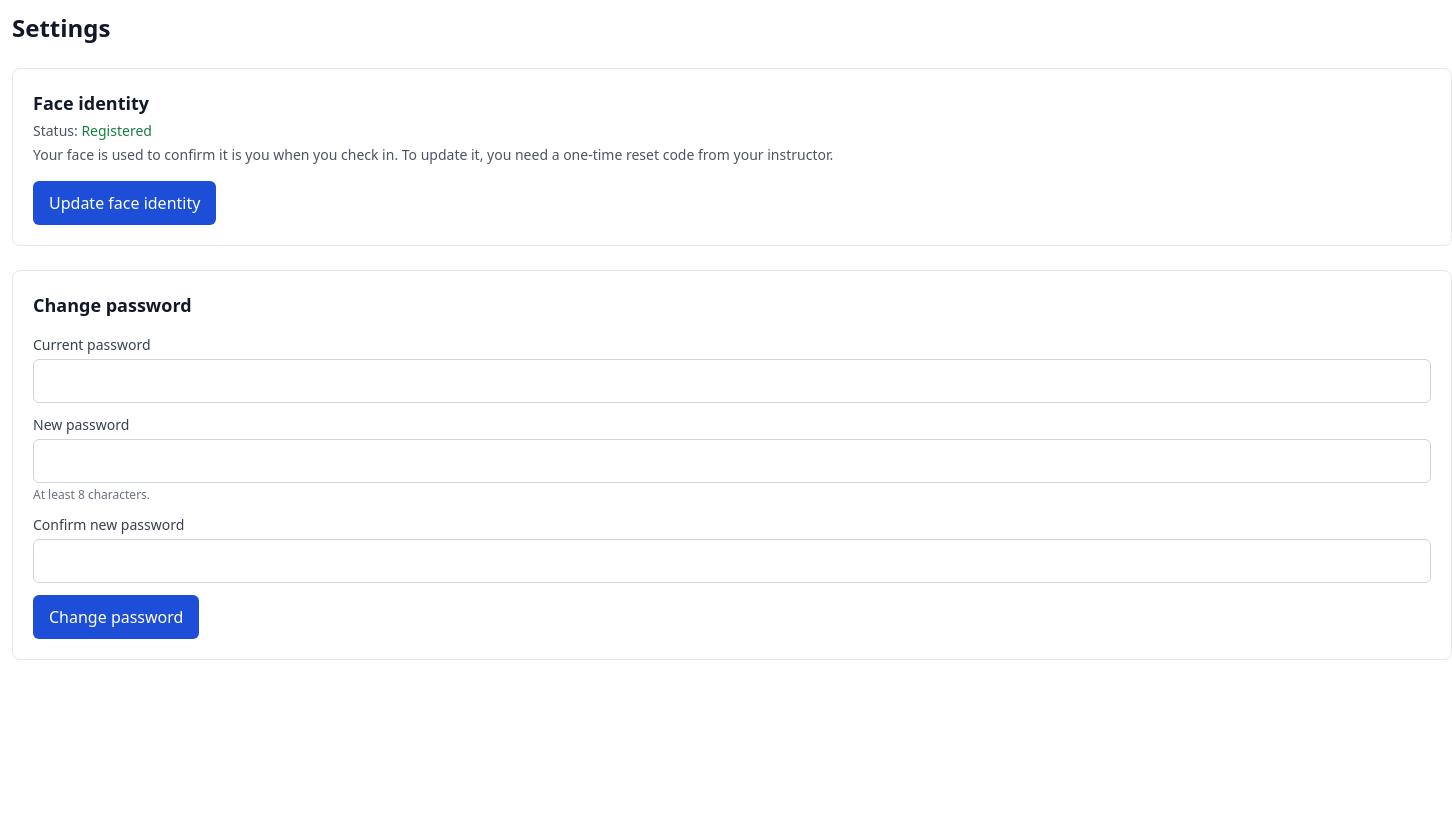
Test: Settings face identity update with an instructor reset code › shows Checking... while the code is checked, then opens the camera step
This screenshot has width=1452, height=822.
Click the button "Update face identity": (125, 203) [33,181,216,225]
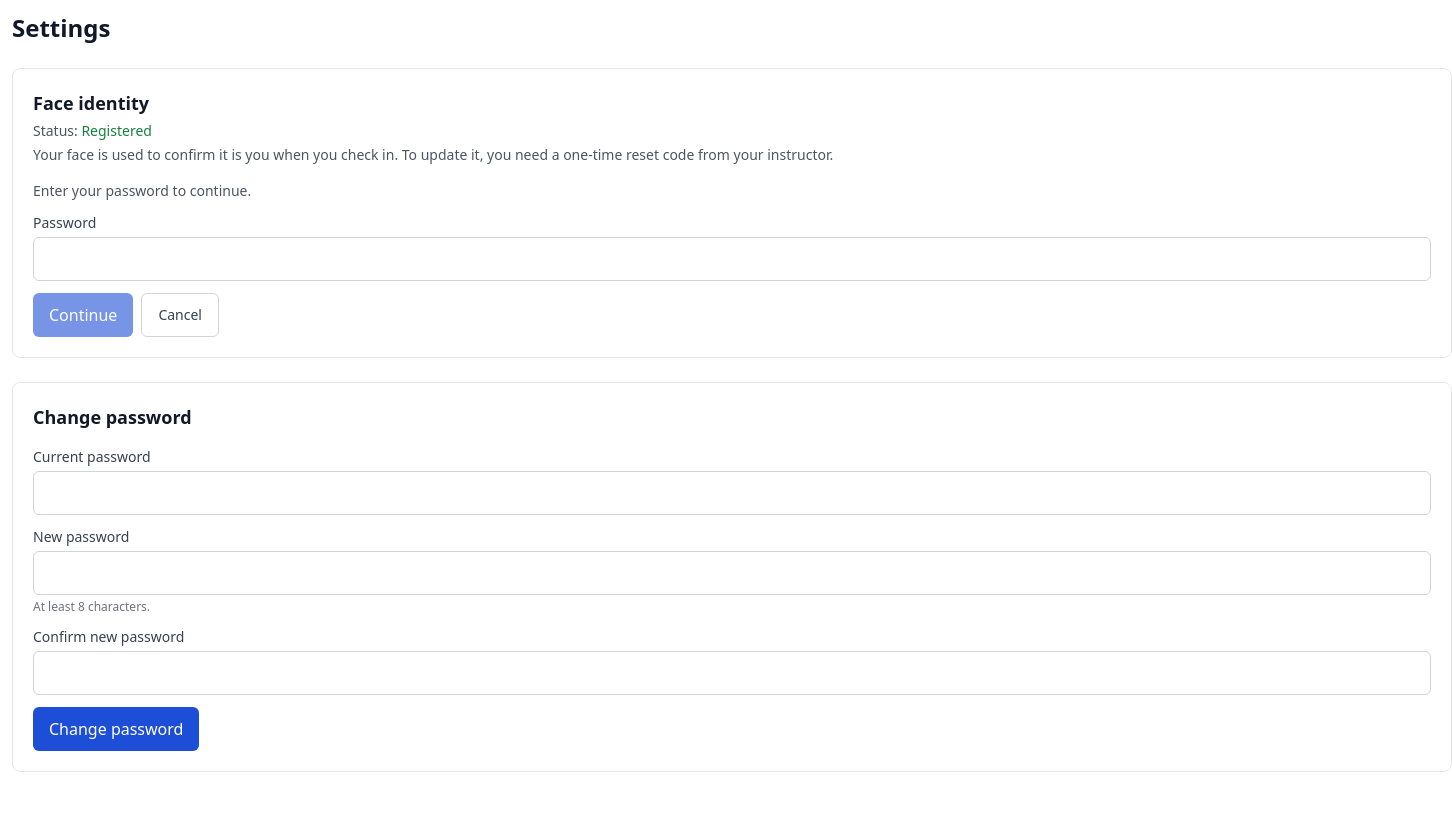
In the password field labelled "Password": (732, 259) [33,237,1431,281], type "right"
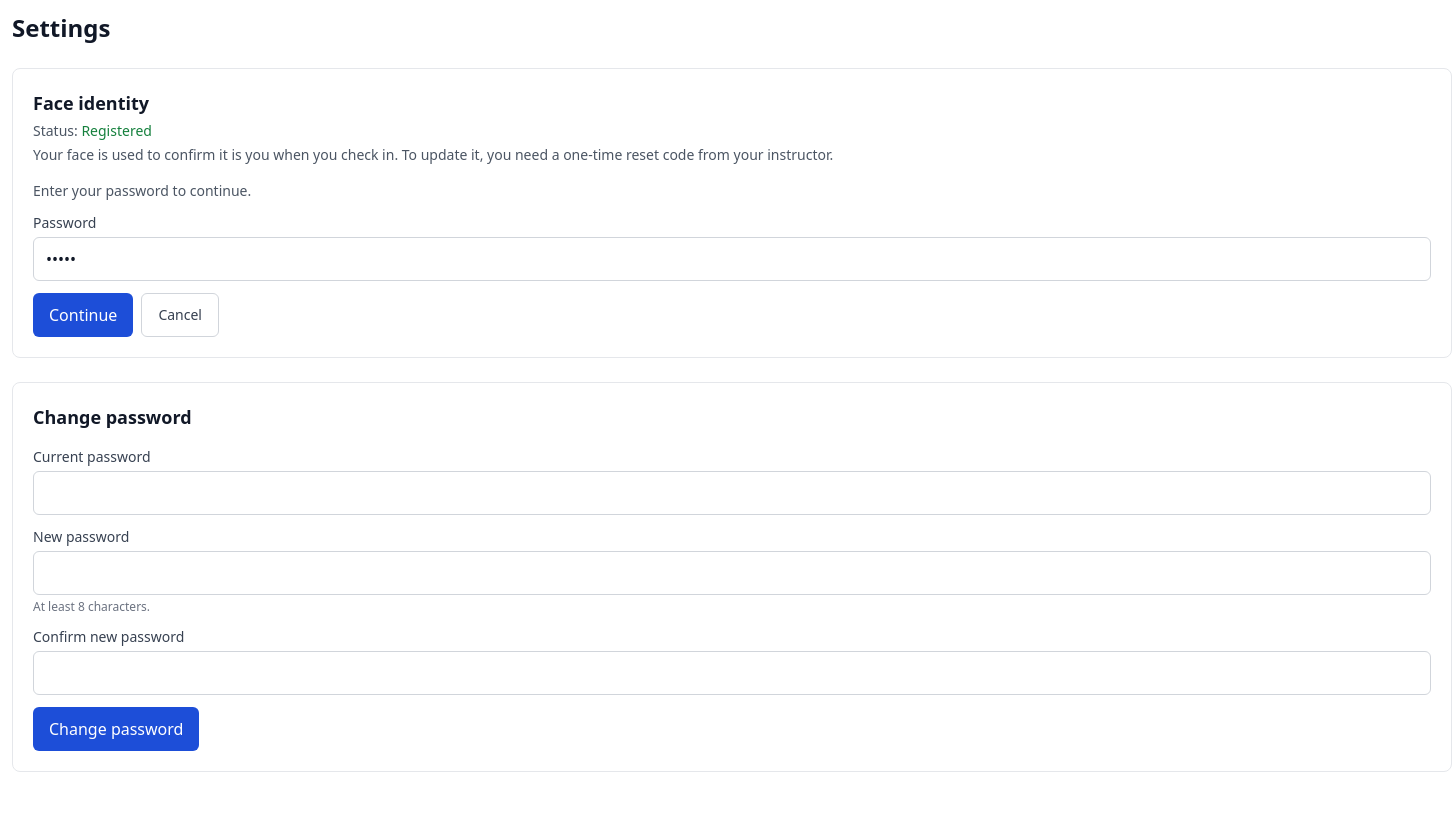
Click the button "Continue": (83, 315) [33,293,133,337]
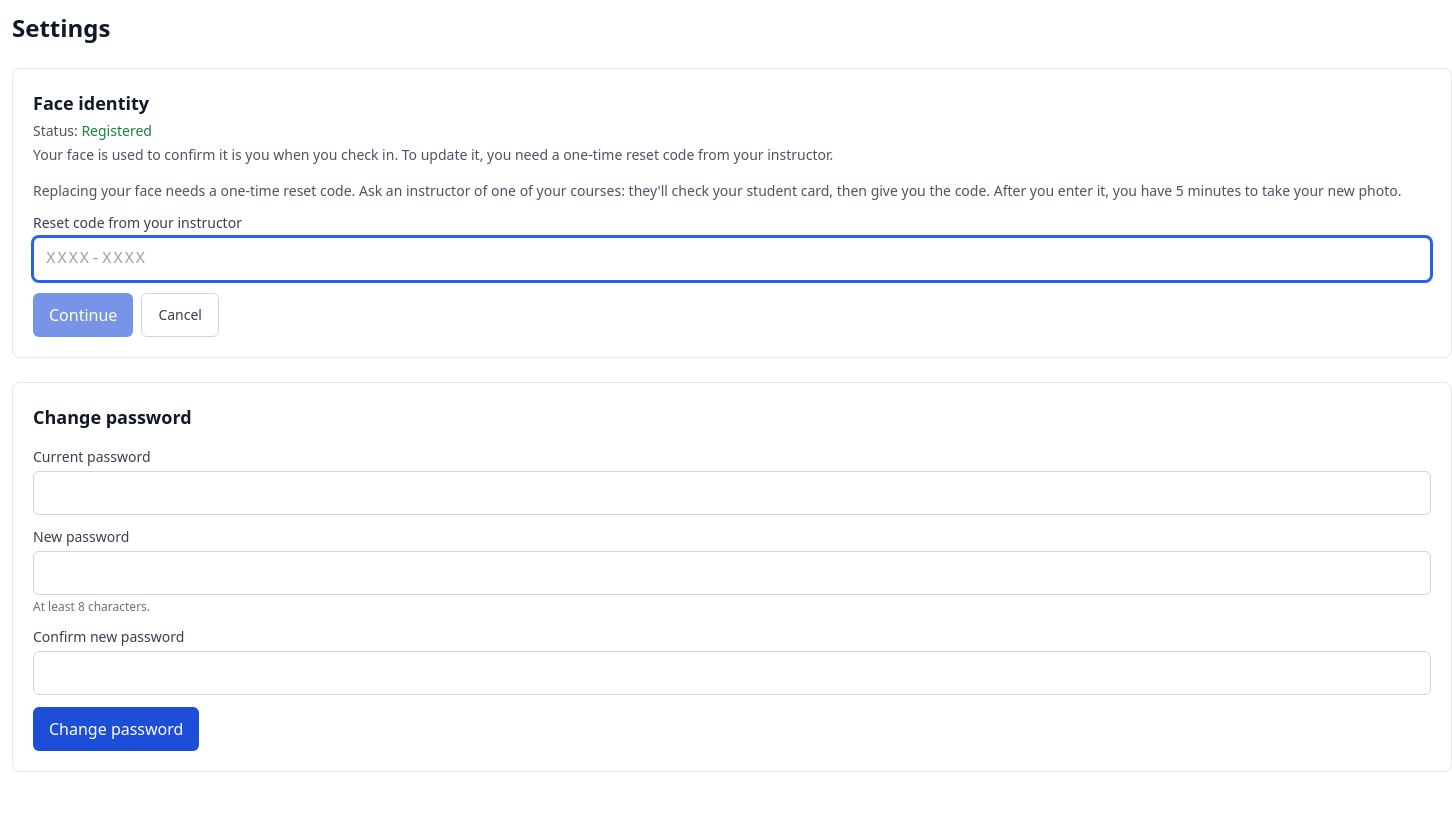
In the field labelled "Reset code from your instructor": (732, 259) [33,237,1431,281], type "K7QM4XPA"
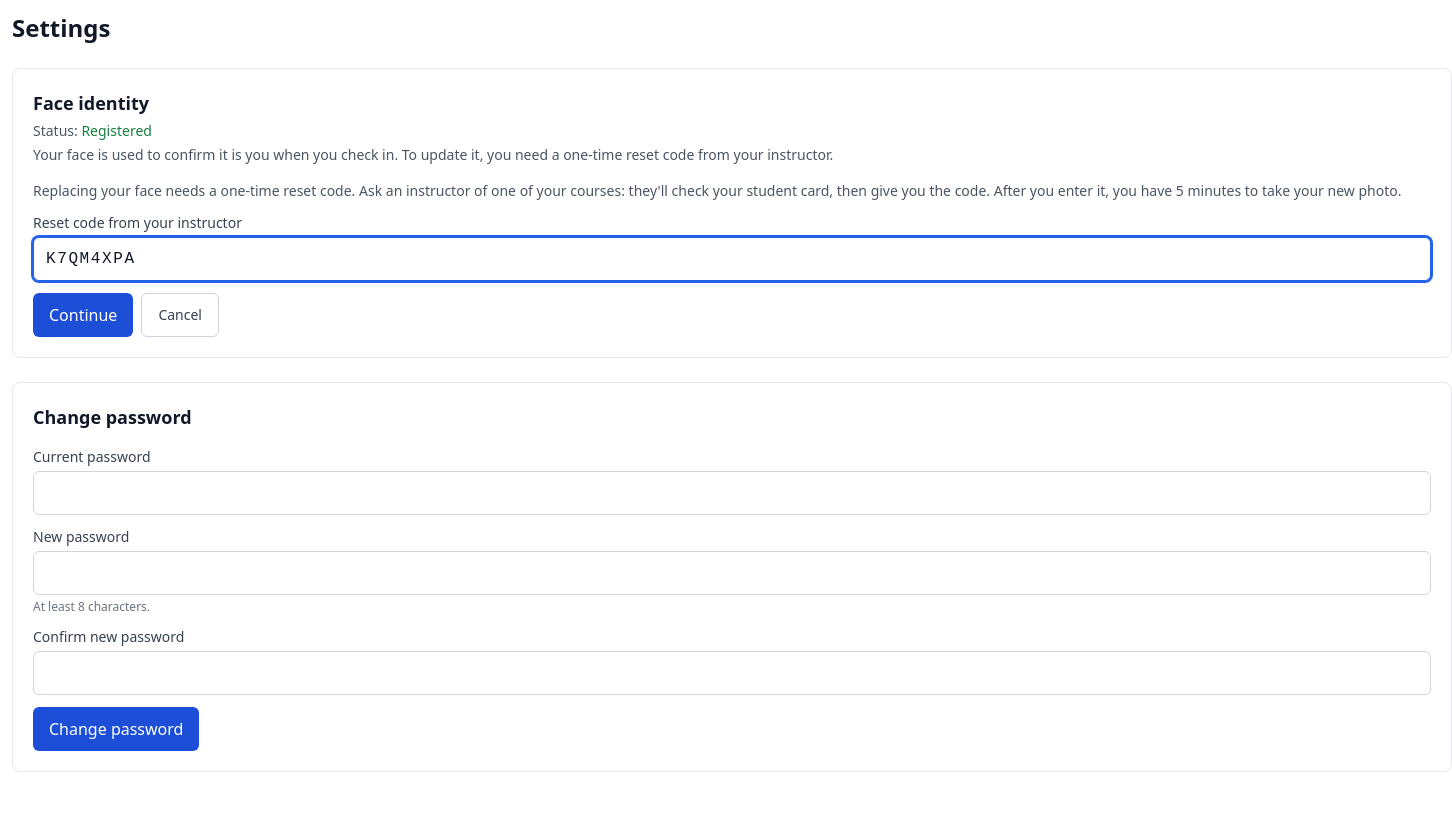
Click the button "Continue": (83, 315) [33,293,133,337]
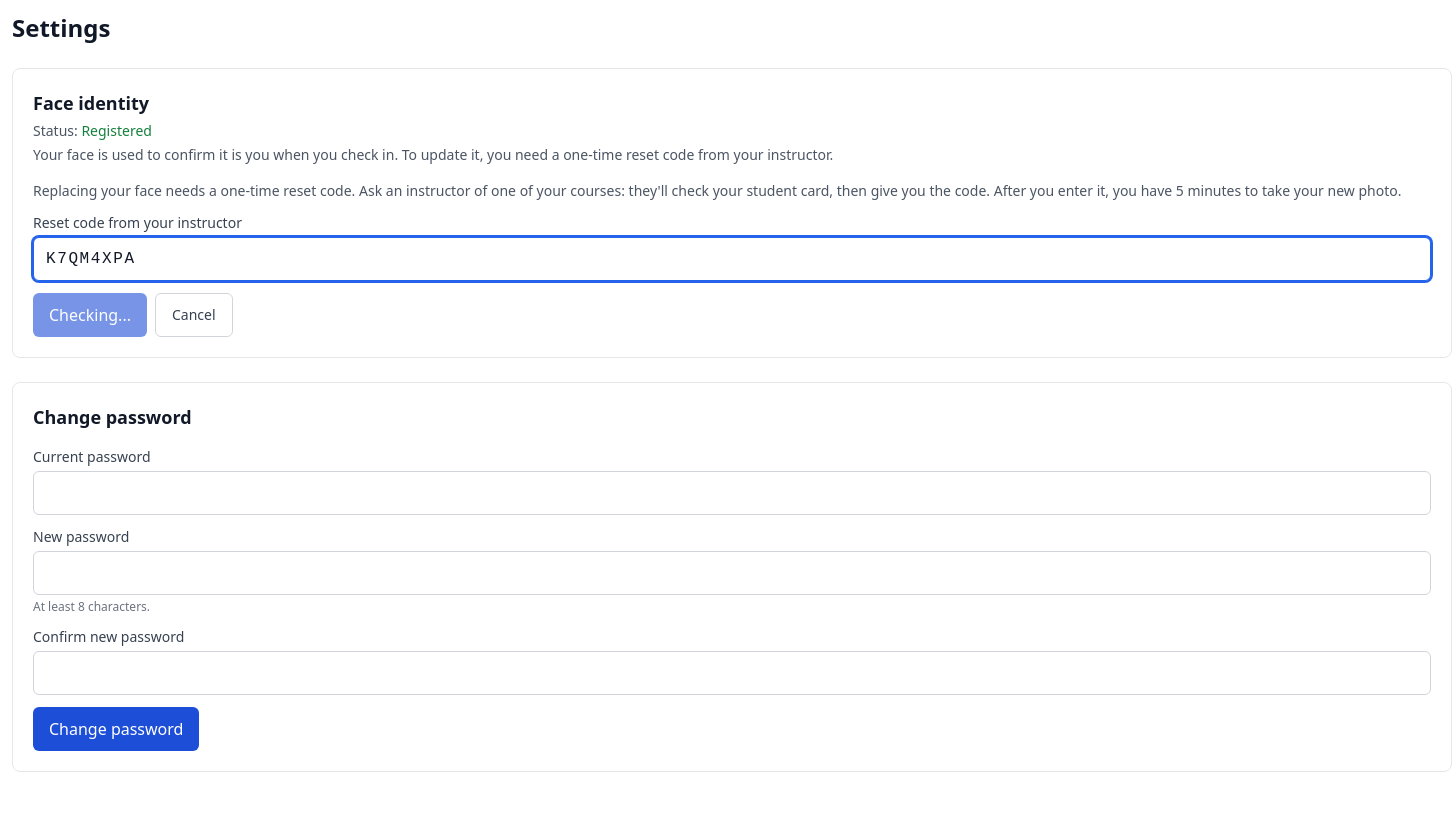
Expected: the button "Checking..." is disabled
Click the button "Checking...": (90, 315) [33,293,147,337]
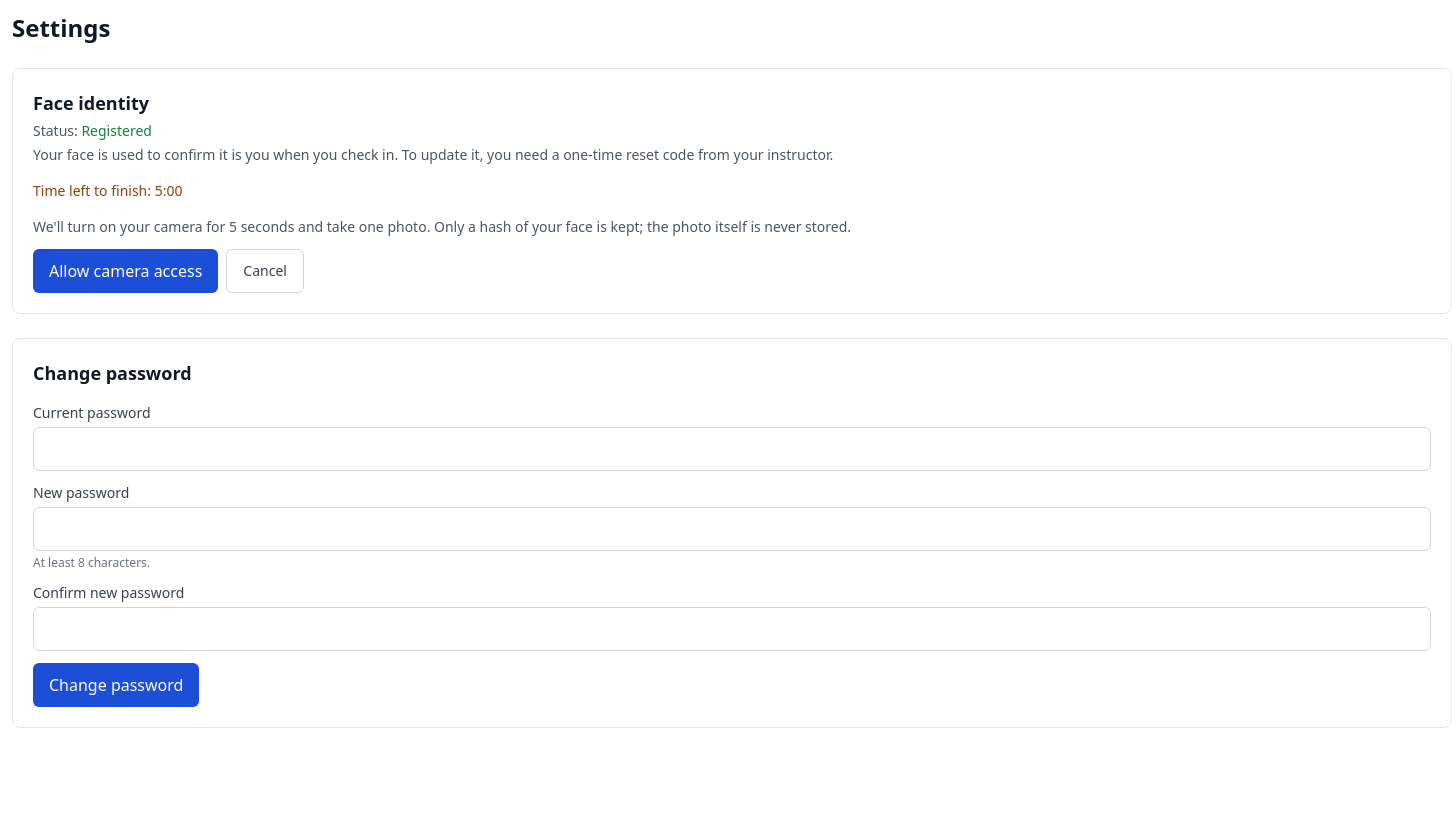
Expected: the button "Allow camera access" is shown, [33,249,218,293]
